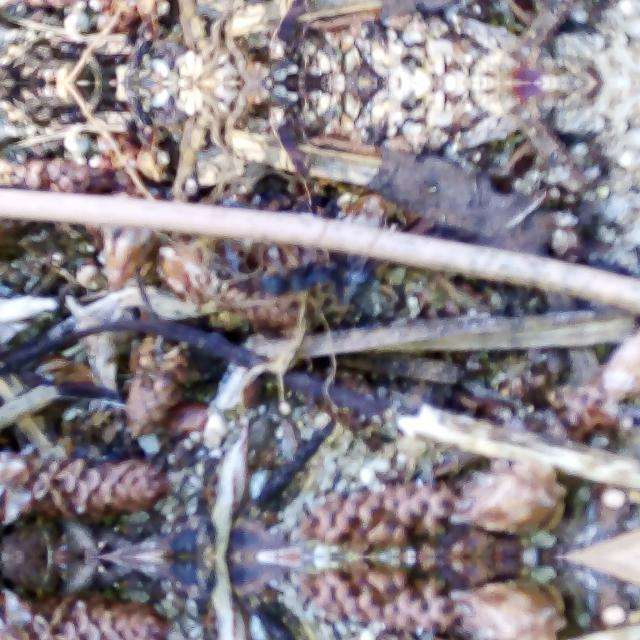Apheanogaster: (251, 239, 345, 313)
